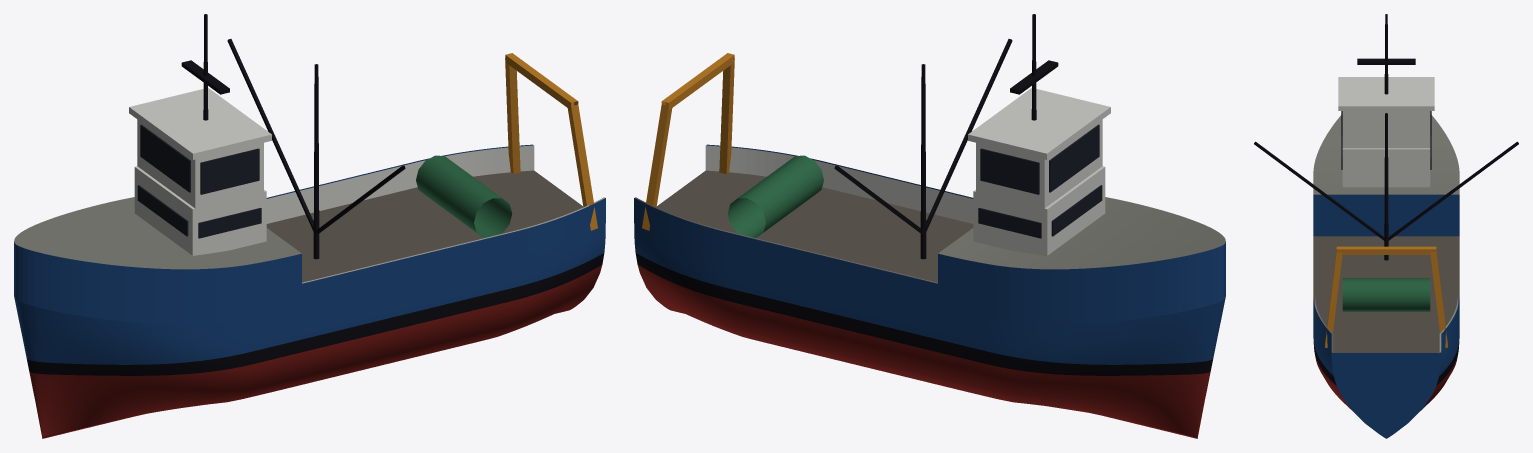
The model's file is trawler.glb.
The picture shows the model from 3 angles, left to right: view 1: azimuth 30°, elevation 25°; view 2: azimuth 150°, elevation 25°; view 3: azimuth 270°, elevation 25°; orthographic projection. The views are drawn at different scales.
Parts seen in each view (by area): view 1: trawler; view 2: trawler; view 3: trawler.
Part boxes in pixels (x1,y1,x2,y2): trawler: (14, 14, 605, 438); trawler: (634, 14, 1225, 438); trawler: (1254, 14, 1518, 438).
Bounding box in the file's own units: 23.1 × 15.33 × 12.68.
